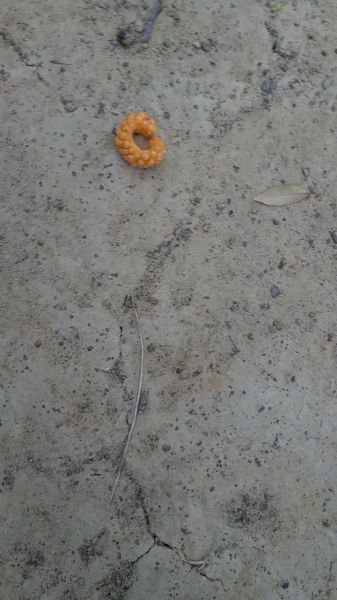eggs: (112, 102, 165, 167)
